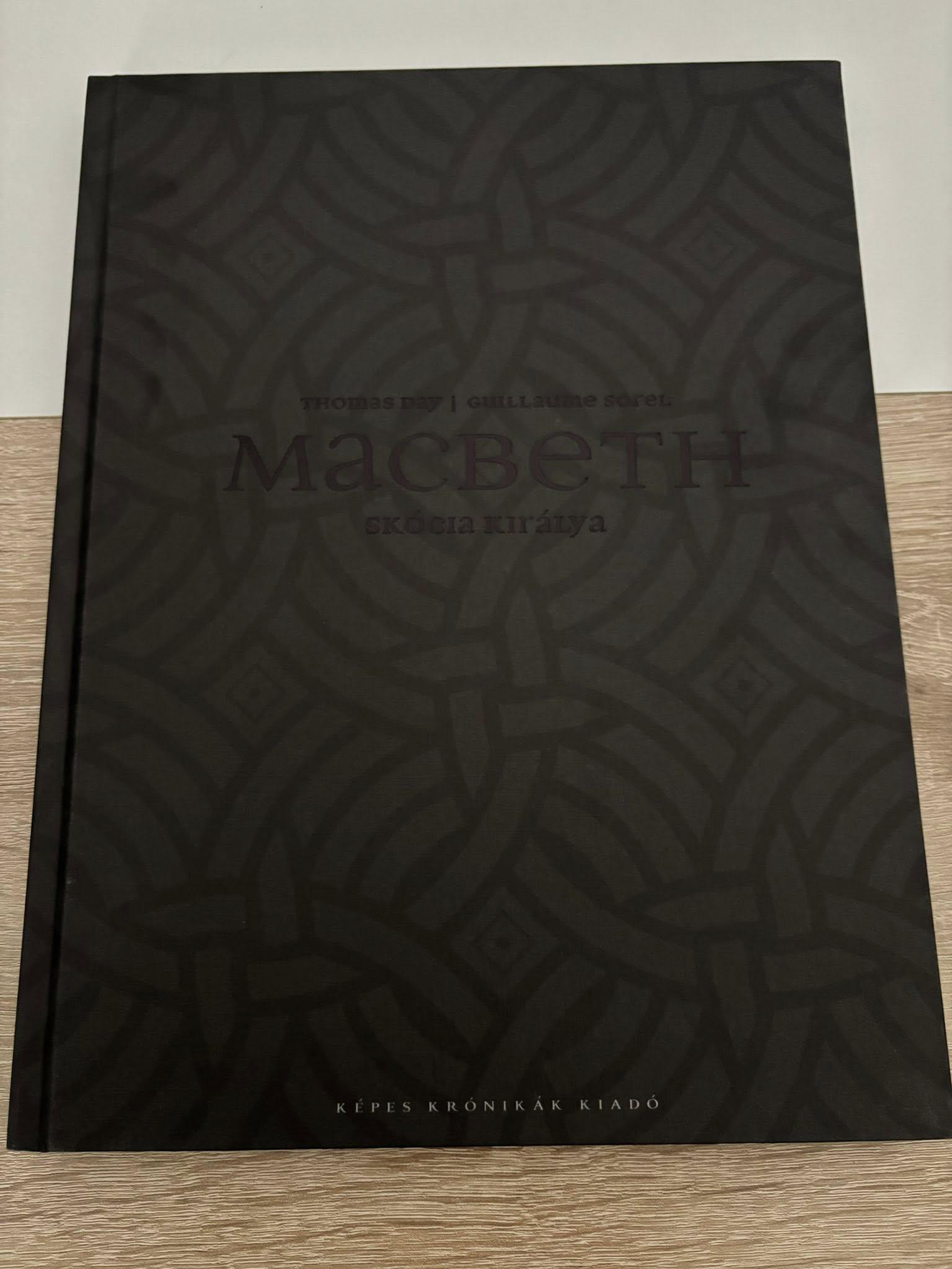comic: (0, 60, 952, 1156)
